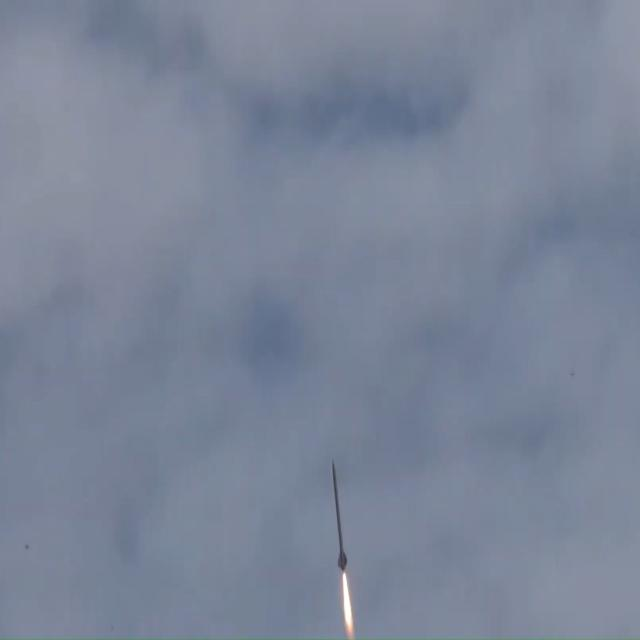Rocket: (331, 456, 348, 571)
